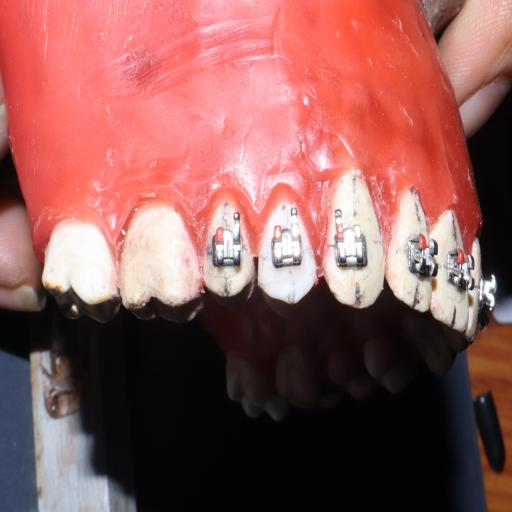incorrect_brace: (332, 220, 369, 274)
